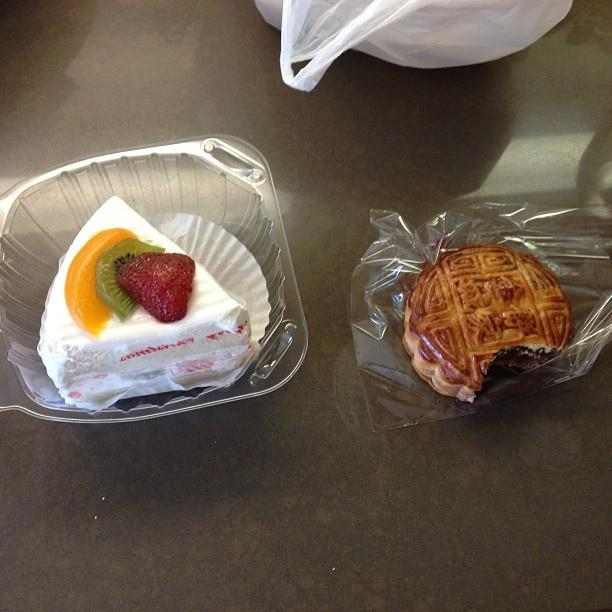kiwi: (94, 237, 166, 322)
strawberry: (117, 253, 194, 324)
